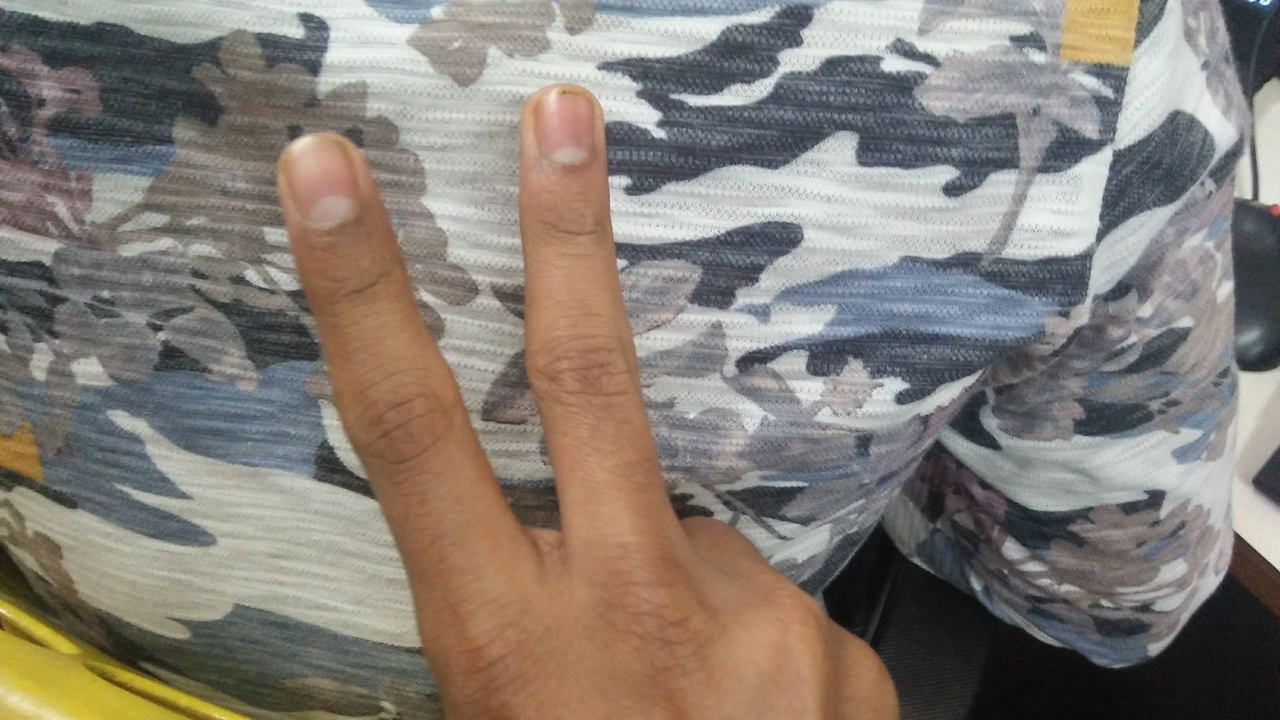fingertip: (262, 128, 380, 230), (518, 80, 604, 174)
